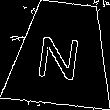N_N: (37, 26, 87, 81)
